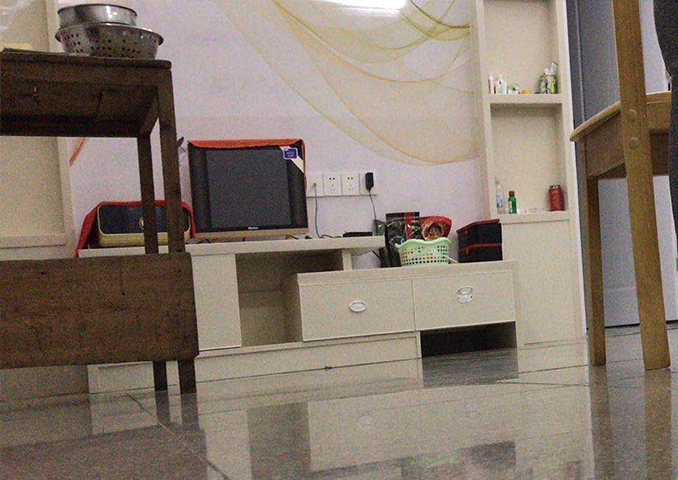cabinet: (68, 216, 586, 398)
stool: (567, 1, 673, 371)
table: (1, 46, 201, 395)
